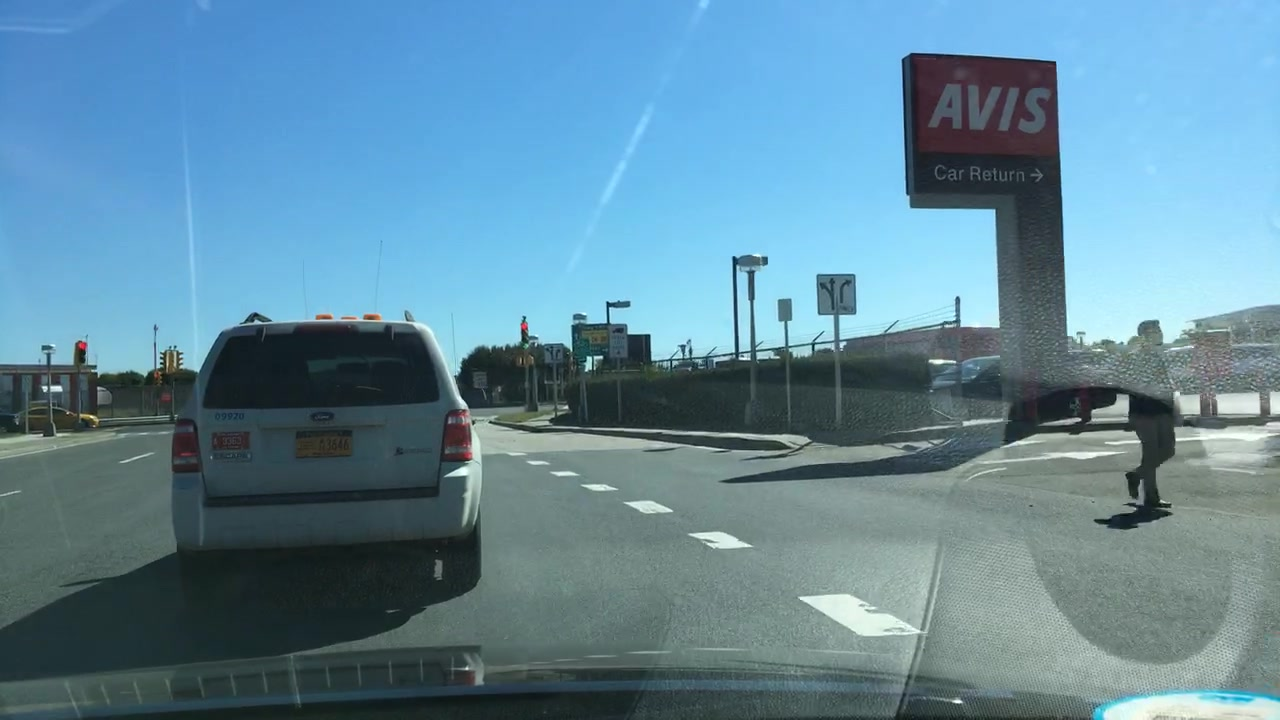licence: (293, 425, 357, 460)
